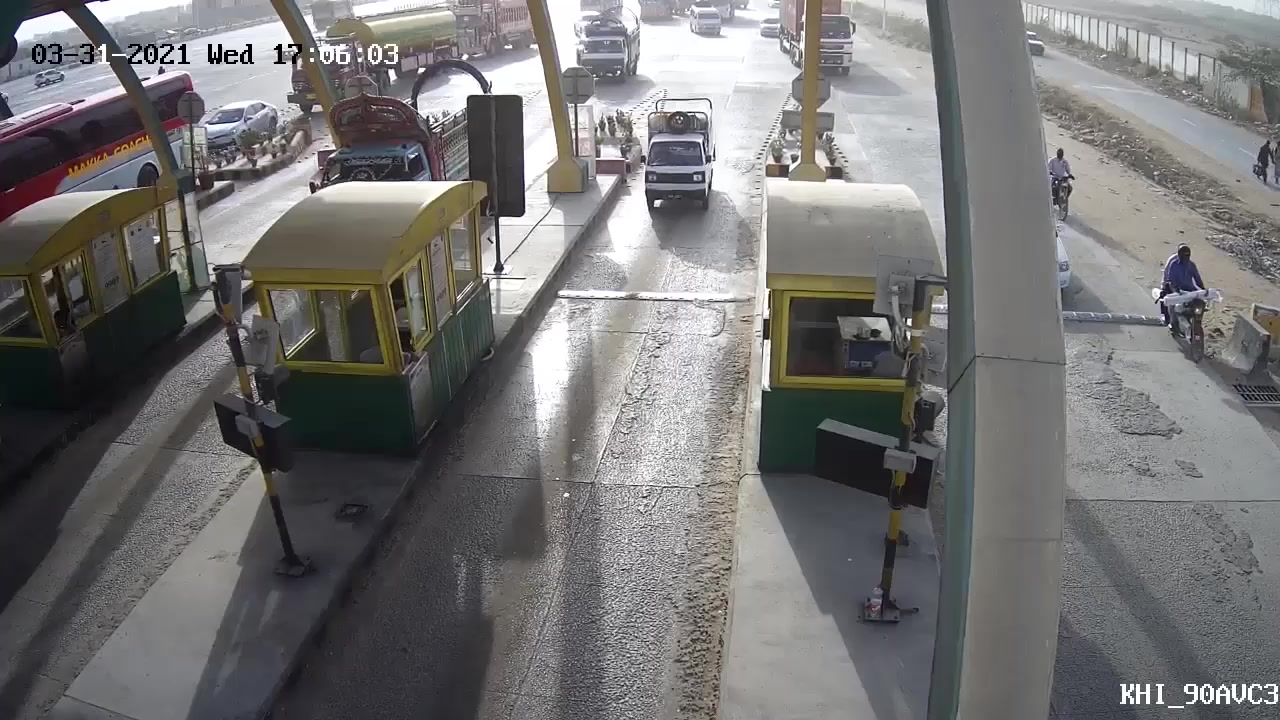F1: (627, 87, 729, 244)
